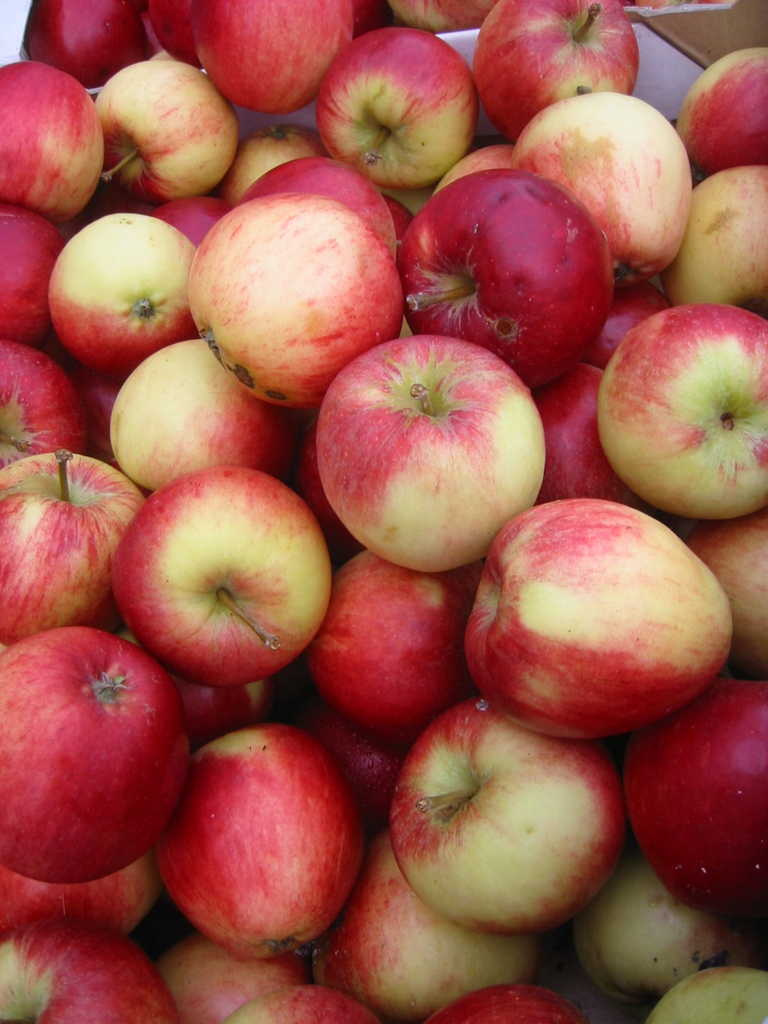Apple: (0, 0, 767, 1023), (463, 492, 729, 741), (312, 335, 548, 567)
